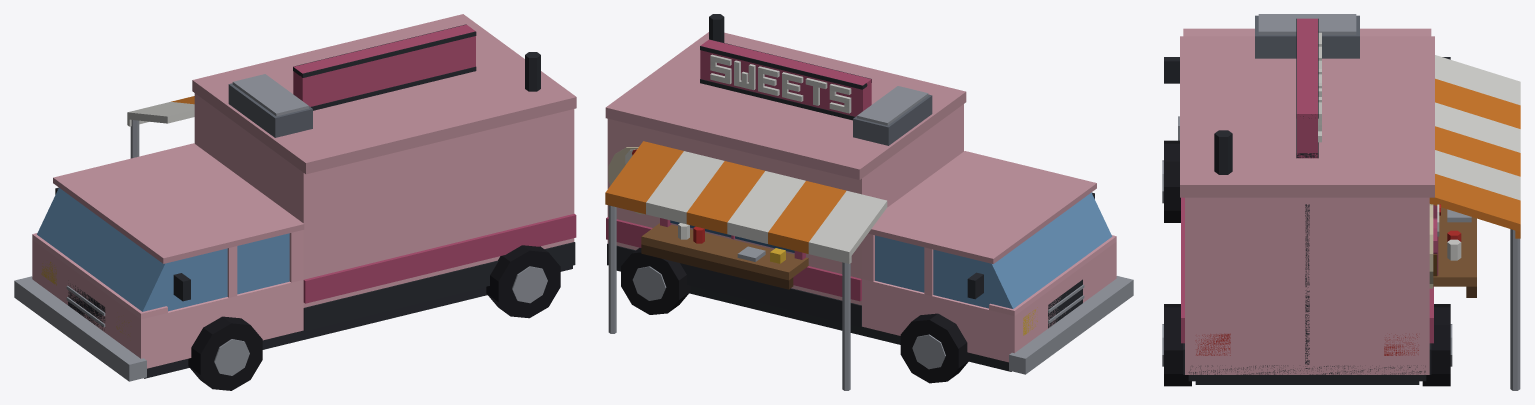
The model's file is Decor_FoodTruck_TruckDessert.fbx.
3 renders of one model, left to right at view 1: azimuth 30°, elevation 25°; view 2: azimuth 150°, elevation 25°; view 3: azimuth 270°, elevation 25°, orthographic. The views are drawn at different scales.
Parts seen in each view (by area): view 1: TruckDessert_Body; view 2: TruckDessert_Body; view 3: TruckDessert_Body.
Boxes of the visible parts, x1,y1,x2,y2 form: TruckDessert_Body: (14,14,576,390); TruckDessert_Body: (605,14,1133,390); TruckDessert_Body: (1162,14,1520,390).
Size of the model in its own units: 16.65 by 8.6 by 10.25.
